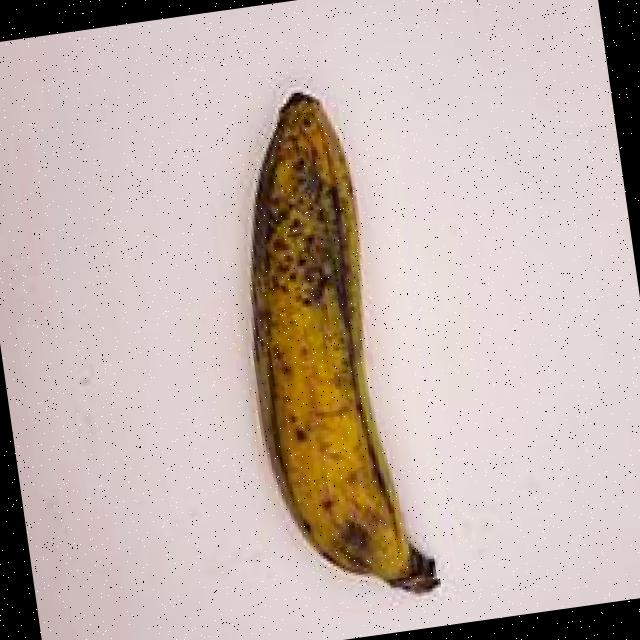Overripe: (178, 42, 502, 640)
